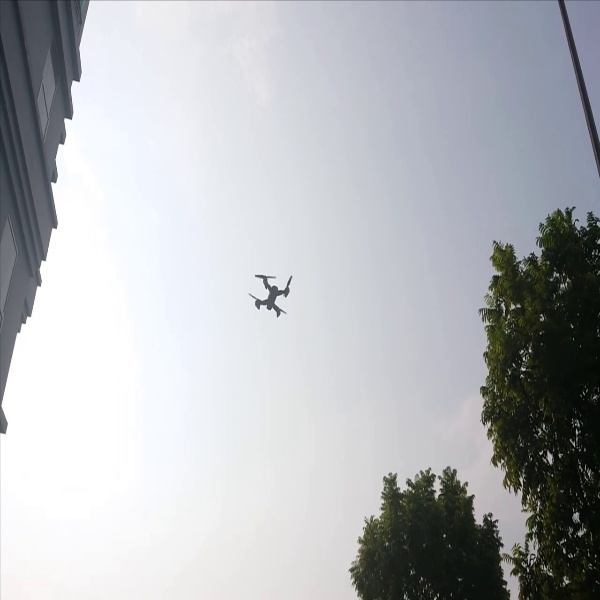drone: (240, 264, 305, 323)
